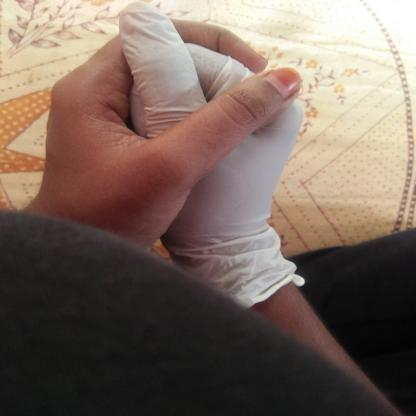gloved_hand: (106, 0, 318, 312)
